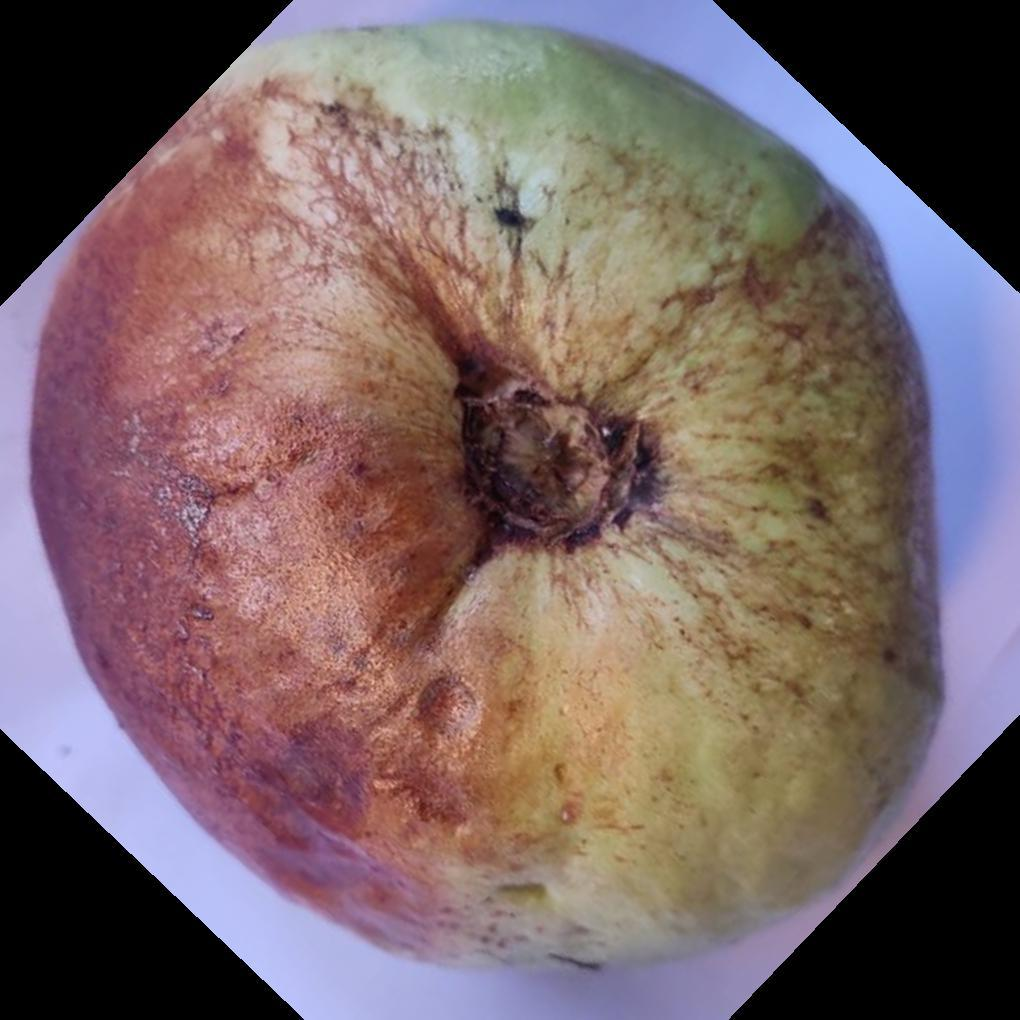FreshOrange: (24, 21, 947, 976)
